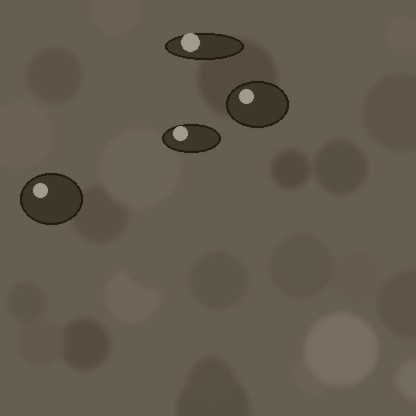gota: (20, 175, 82, 229), (226, 83, 288, 131), (165, 34, 243, 62), (162, 125, 220, 155)
